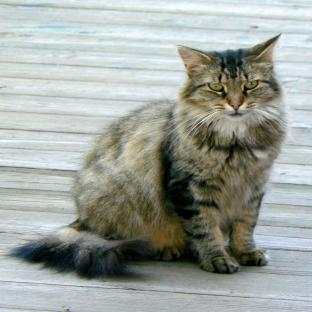Animal: (10, 35, 286, 276)
